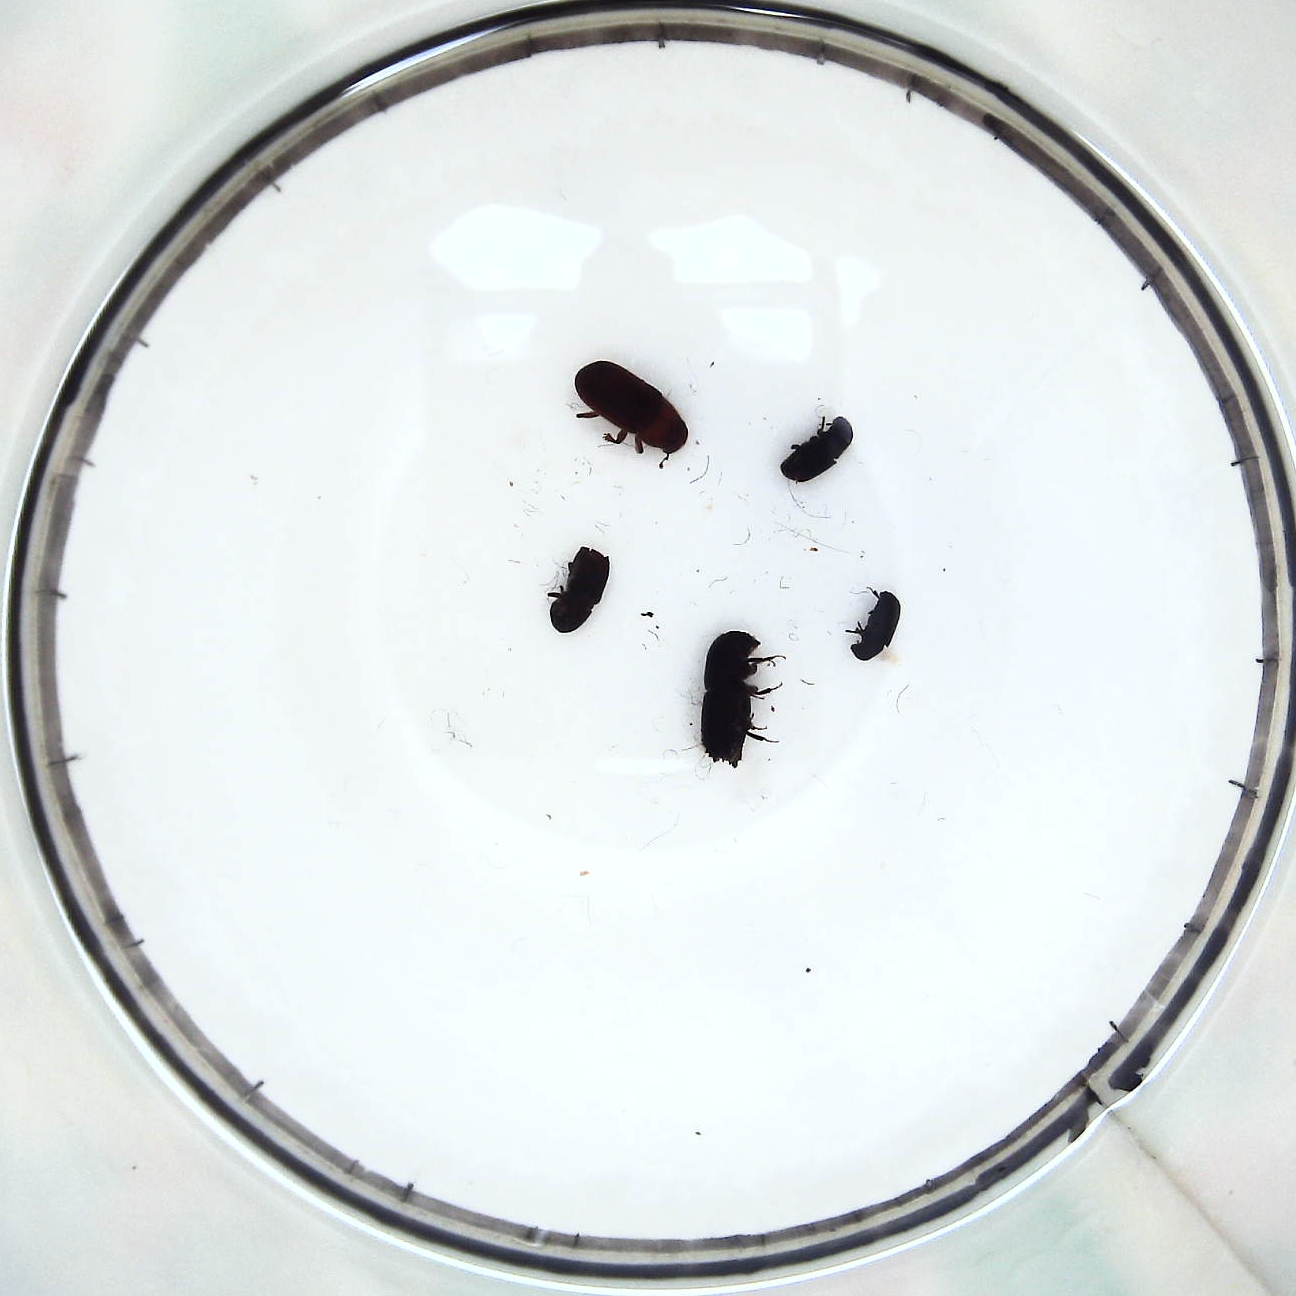Boerner: (707, 625, 765, 781)
Leconte: (571, 360, 692, 459)
Linnaeus: (548, 547, 611, 633)
armandi: (780, 420, 856, 484)
coleoptera: (856, 589, 904, 665)
